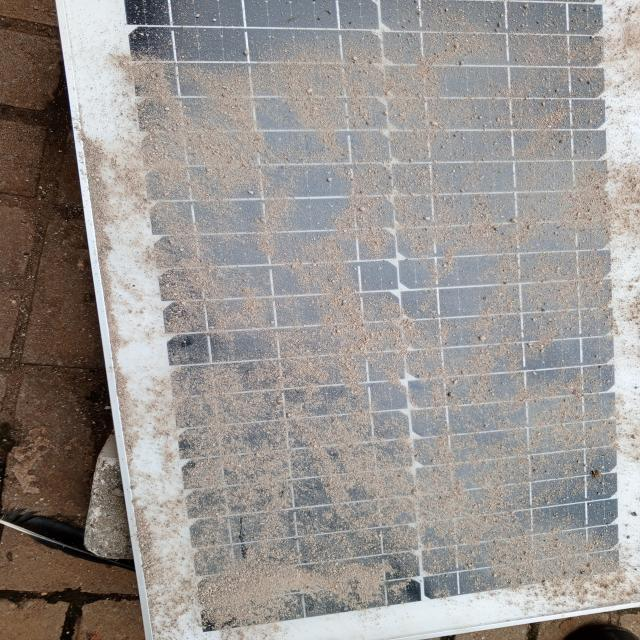Surface Contaminant: (165, 37, 629, 586)
